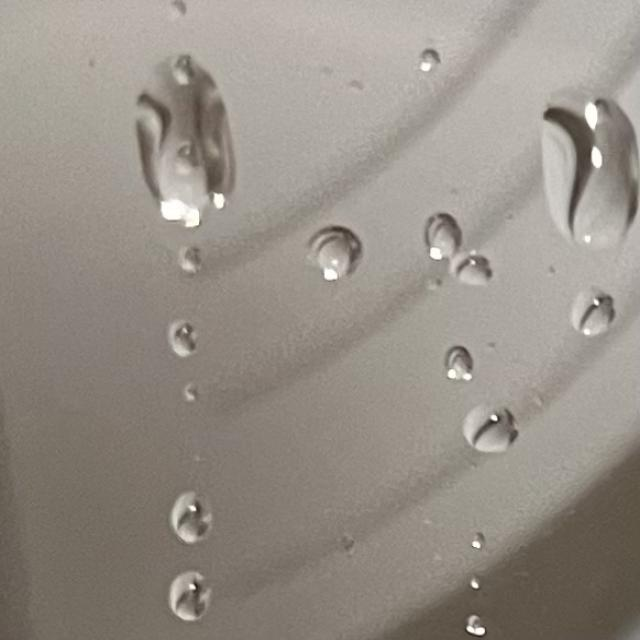raindrop: (119, 46, 238, 216), (542, 81, 638, 243), (312, 216, 376, 295), (449, 400, 522, 462), (553, 280, 621, 344), (150, 565, 222, 618), (408, 206, 468, 258), (170, 487, 217, 549), (160, 312, 210, 364), (168, 229, 214, 280), (426, 347, 478, 392), (444, 257, 492, 293), (466, 519, 502, 558), (414, 46, 456, 77), (457, 568, 495, 602), (172, 383, 201, 413), (468, 620, 492, 636)
